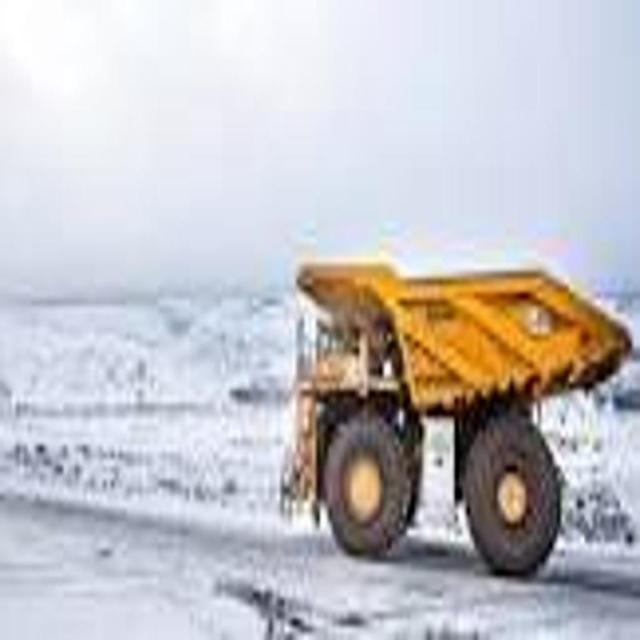dump_truck: (286, 245, 632, 573)
